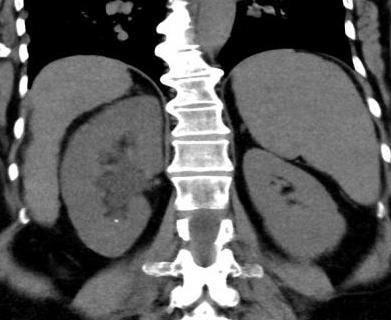Tas_Var: (112, 217, 121, 225)
